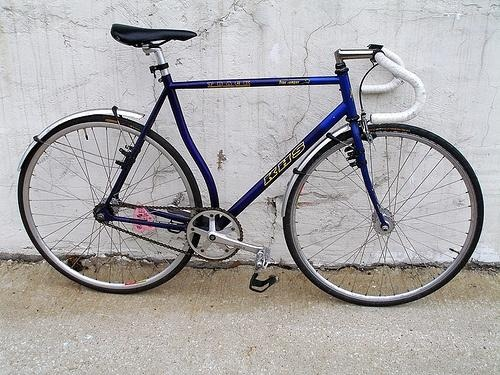bicycle: (16, 23, 485, 307)
